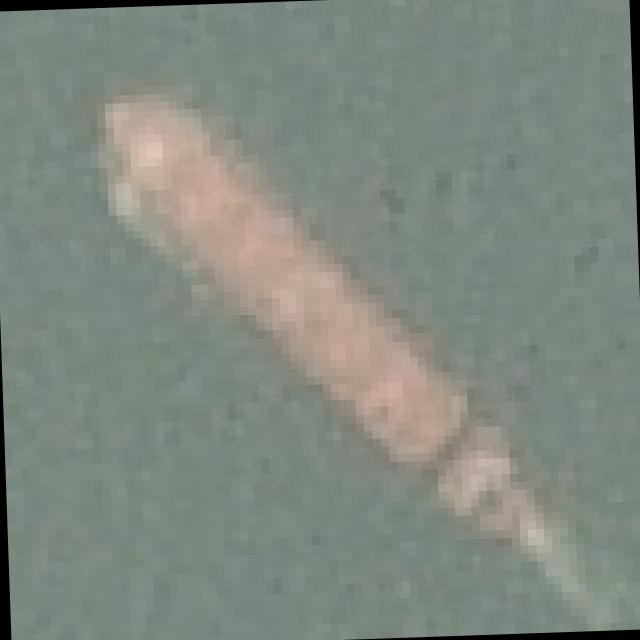ship: (75, 52, 581, 595)
